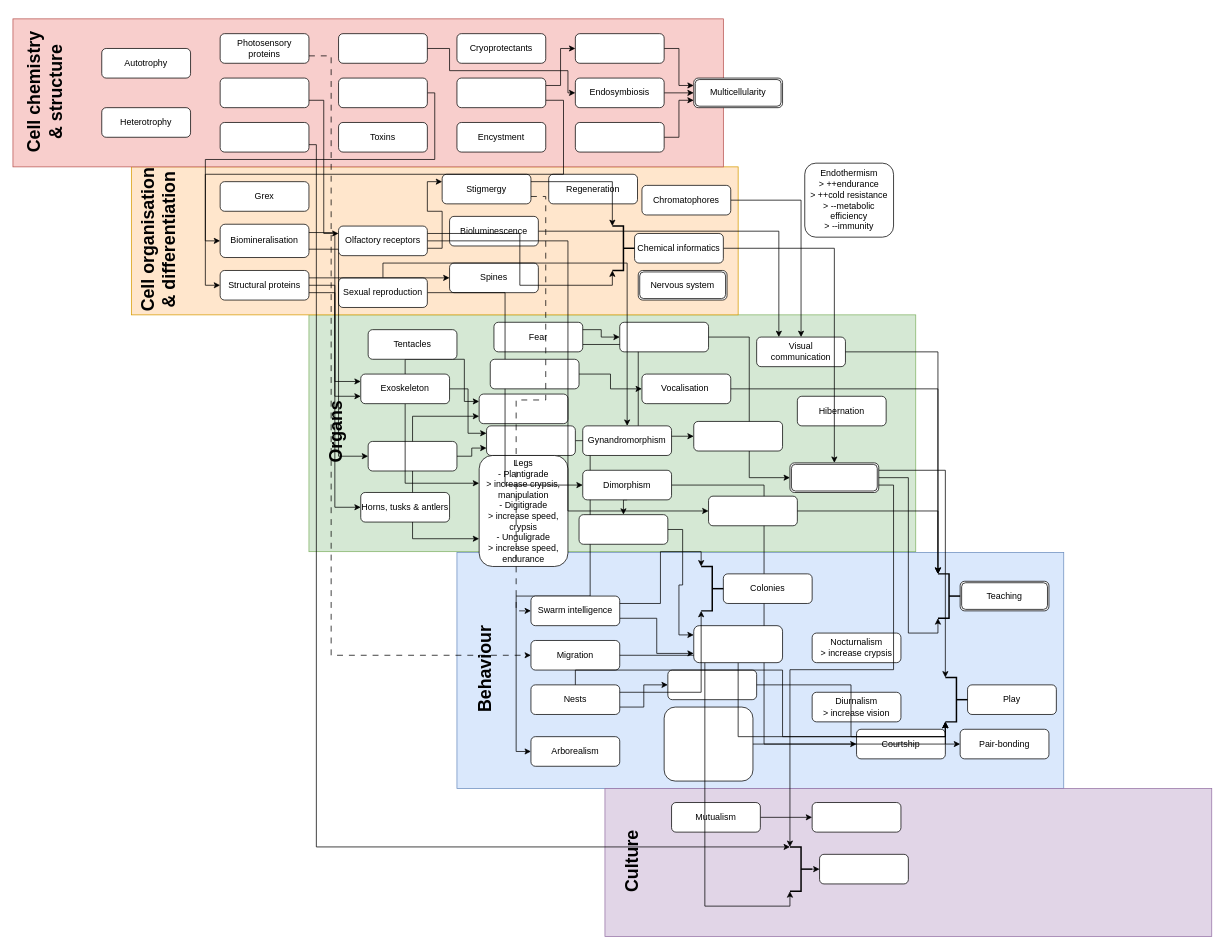
Some shapes in this 1225 by 949 pixel diagram are drawn without their labels. Each missing label, with the box of its shape:
Biofilms: (456, 77, 546, 108)
Chemotaxis: (219, 77, 309, 108)
Complex emotion: (693, 421, 783, 451)
Domestication: (811, 802, 901, 832)
Endoskeleton: (367, 441, 457, 471)
Feeding: (667, 669, 757, 700)
Gestation: (578, 514, 668, 544)
Herds > increase perception > decrease crypsis: (693, 625, 783, 663)
Learning: (789, 462, 879, 492)
Lungs: (490, 359, 579, 389)
Magnetoreceptors: (219, 122, 309, 152)
Memory: (619, 322, 709, 352)
Microbial colonies: (575, 33, 664, 63)
Migratory routes: (819, 854, 908, 884)
Pack hunting 1. Group tactics > ++size (effective) 2. Ambush tactics > ++crypsis: (663, 706, 753, 781)
Pheremones: (708, 495, 797, 526)
Pseudopods: (338, 33, 427, 63)
Spatial differentiation: (575, 122, 664, 152)
Tail: (486, 425, 575, 455)
Tests: (338, 77, 427, 108)
Wings: (478, 393, 568, 424)
